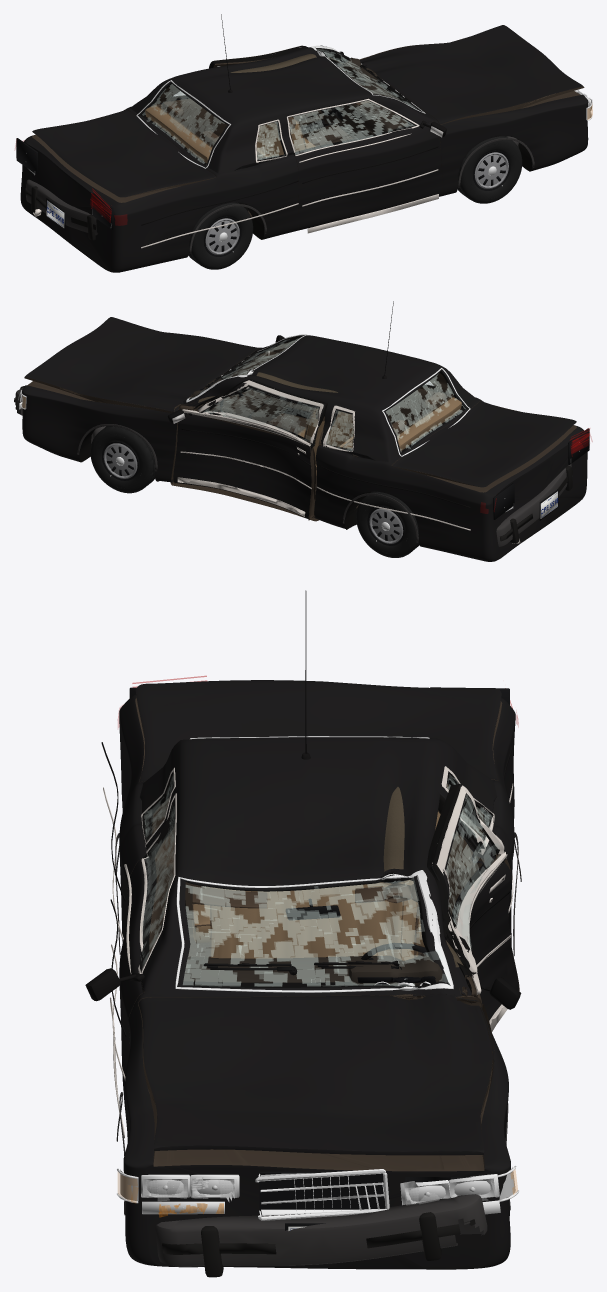
Rendered from coupe84_side_d1_lod1.glb.
3 views of the same model, one above another, from view 1: azimuth 30°, elevation 25°; view 2: azimuth 150°, elevation 25°; view 3: azimuth 270°, elevation 25° (orthographic). The views are drawn at different scales.
Parts seen in each view (by area): view 1: Body, Hood, Door_FR, Trunk, Interior, Glass, Wheel_FR_mesh, Wheel_RR_mesh, Glass_FR, Trim_FR, Trim, Ends (+4 smaller); view 2: Body, Hood, Door_FL, Trunk, Interior, Glass, Wheel_FL_mesh, Trim_FL, Wheel_RL_mesh, Glass_FL, Trim, Bumper_R (+2 smaller); view 3: Body, Hood, Trunk, Interior, Glass, Bumper_F, Ends, Door_FL, Door_FR, Trim_FL, Trim, Glass_FL (+3 smaller).
Boxes of the visible parts, <box> form: Body: <box>20,45,588,272</box>; Hood: <box>359,25,584,124</box>; Door_FR: <box>286,98,442,230</box>; Trunk: <box>32,109,216,197</box>; Interior: <box>145,58,411,162</box>; Glass: <box>136,45,425,168</box>; Wheel_FR_mesh: <box>457,136,522,203</box>; Wheel_RR_mesh: <box>188,202,253,269</box>; Glass_FR: <box>286,99,415,156</box>; Trim_FR: <box>286,98,446,233</box>; Trim: <box>141,14,534,253</box>; Ends: <box>16,90,592,230</box>; Body: <box>22,335,587,561</box>; Hood: <box>24,317,259,412</box>; Door_FL: <box>173,379,327,520</box>; Trunk: <box>392,400,576,487</box>; Interior: <box>191,355,461,475</box>; Glass: <box>186,334,470,456</box>; Wheel_FL_mesh: <box>90,426,155,493</box>; Trim_FL: <box>167,380,323,516</box>; Wheel_RL_mesh: <box>356,491,419,557</box>; Glass_FL: <box>198,379,324,447</box>; Trim: <box>77,301,470,542</box>; Bumper_R: <box>496,463,575,546</box>; Body: <box>119,694,515,1269</box>; Hood: <box>138,993,492,1155</box>; Trunk: <box>135,680,501,782</box>; Interior: <box>183,784,448,986</box>; Glass: <box>141,736,493,992</box>; Bumper_F: <box>155,1194,487,1277</box>; Ends: <box>117,687,518,1230</box>; Door_FL: <box>427,784,519,1020</box>; Door_FR: <box>119,792,177,1126</box>; Trim_FL: <box>432,785,521,1032</box>; Trim: <box>101,590,521,1215</box>; Glass_FL: <box>430,795,507,974</box>.
Size of the model in its own units: 5.18 by 2.1 by 1.95.
Materials: 34 (5 with a texture image).
